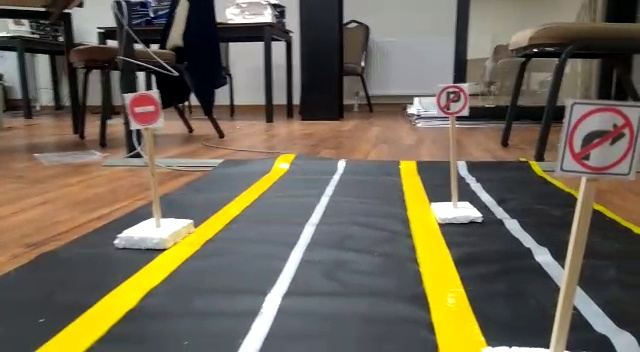girisi_olmayan_yol: (125, 94, 165, 128)
park_yapilmaz: (438, 85, 470, 118)
saga_donulmez: (567, 100, 635, 174)
